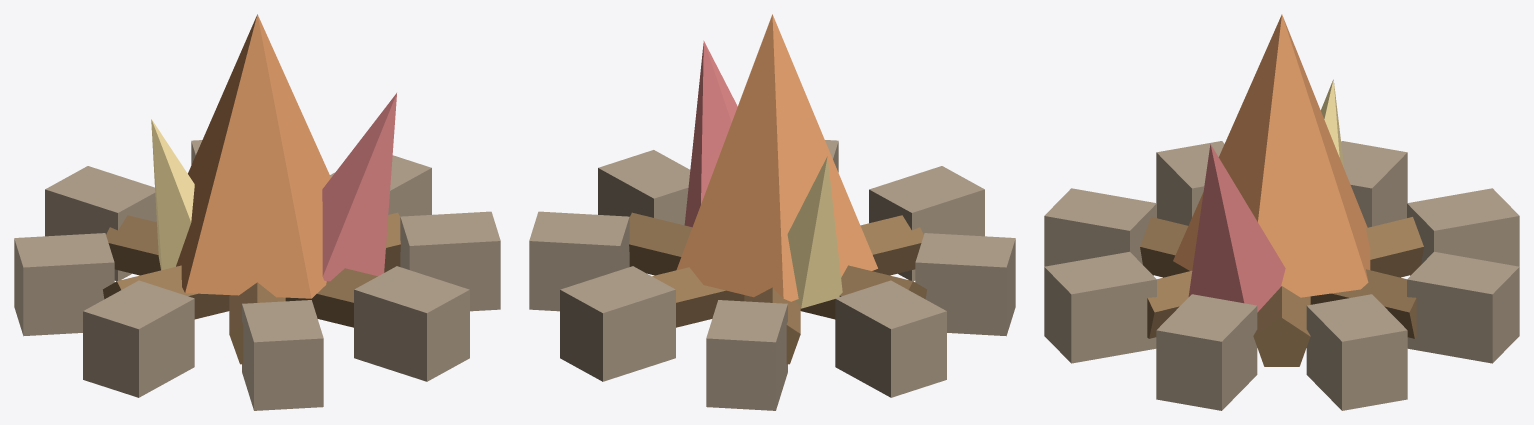
Rendered from volcanic-landmark-s1.glb.
3 renders of one model, left to right at view 1: azimuth 30°, elevation 25°; view 2: azimuth 150°, elevation 25°; view 3: azimuth 270°, elevation 25°, orthographic.
Visible parts, largest first — view 1: volcanic-landmark-s1; view 2: volcanic-landmark-s1; view 3: volcanic-landmark-s1.
Boxes of the visible parts, x1,y1,x2,y2 form: volcanic-landmark-s1: (14,14,500,410); volcanic-landmark-s1: (529,14,1015,410); volcanic-landmark-s1: (1044,14,1519,410).
Size of the model in its own units: 0.872 by 0.6 by 0.872.
